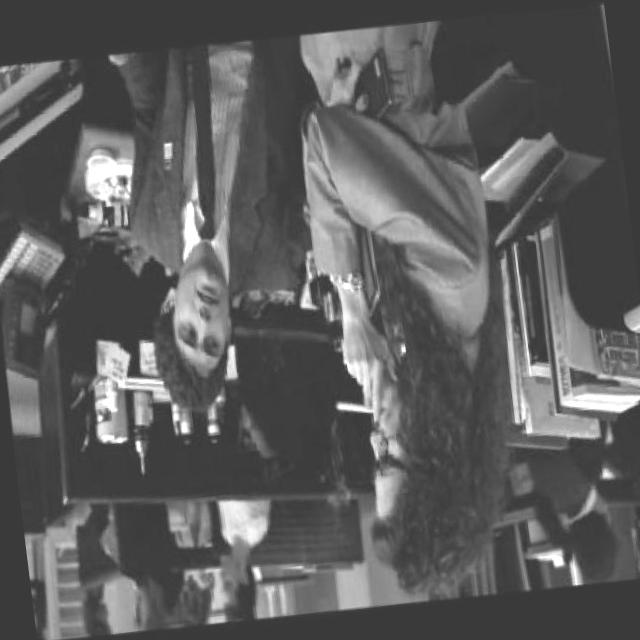cigarette: (331, 392, 375, 416)
